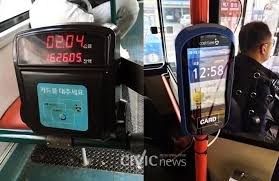terminal: (10, 21, 120, 141)
